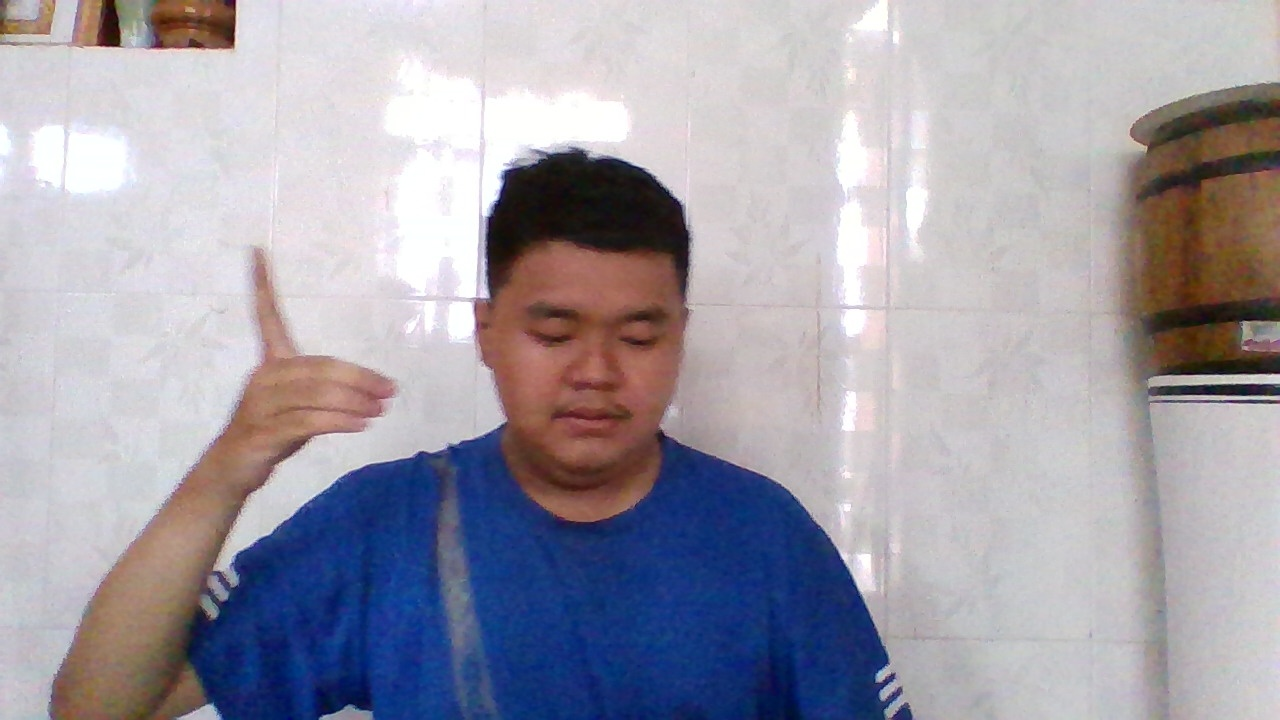D: (211, 242, 402, 496)
